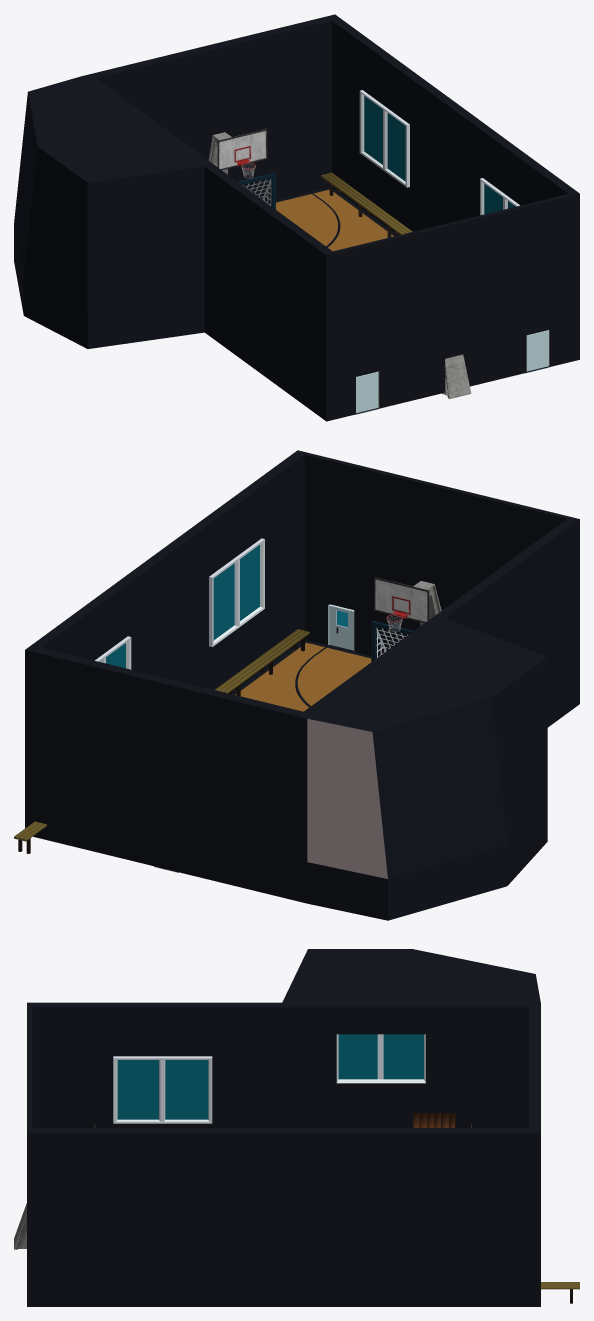
The picture shows the model from 3 angles, top to bottom: view 1: azimuth 30°, elevation 25°; view 2: azimuth 150°, elevation 25°; view 3: azimuth 270°, elevation 25°; orthographic projection. The views are drawn at different scales.
Parts seen in each view (by area): view 1: Cube.003; view 2: Cube.003; view 3: Cube.003.
Boxes of the visible parts, bbox=[...] form: Cube.003: bbox=[14, 14, 579, 421]; Cube.003: bbox=[14, 450, 579, 920]; Cube.003: bbox=[14, 949, 579, 1306].
Size of the model in its own units: 1357 by 584 by 1703.
Materials: 3 (3 with a texture image).
